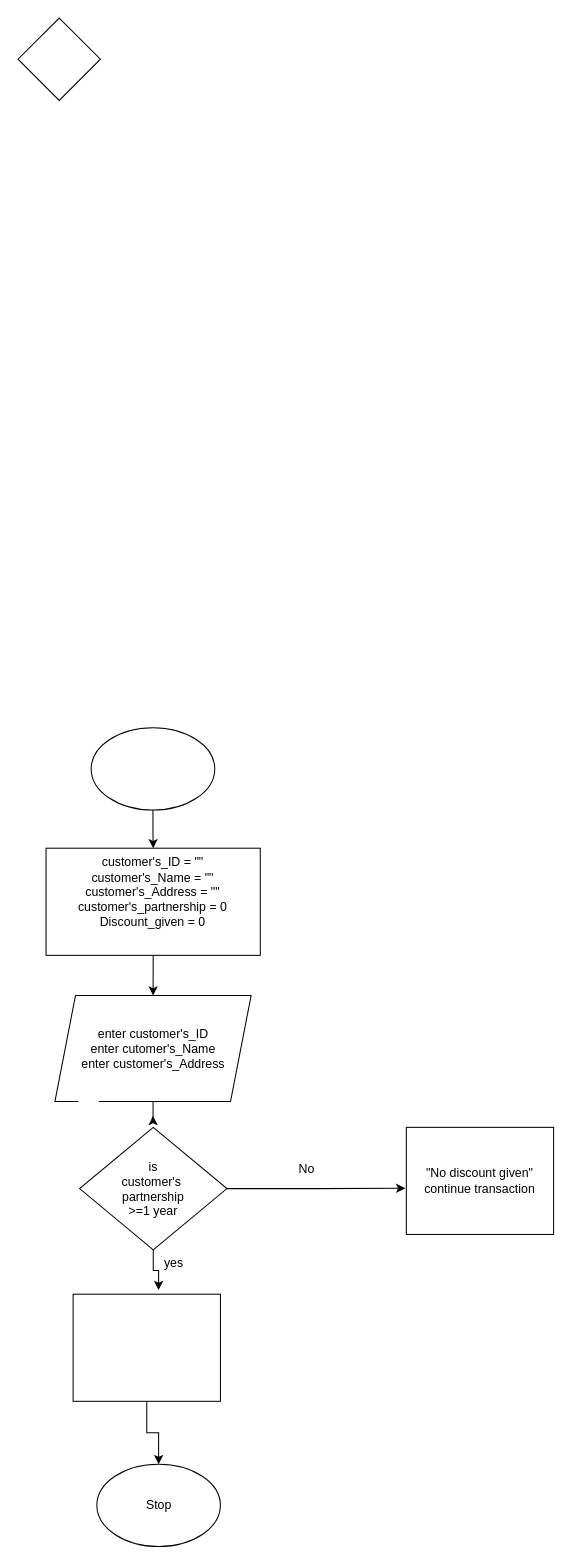
This 572x1565 diagram has some shape labels left out. The shapes that lost their labels are listed below. From the top down, each one's centre as x and y in pixels, then its label:
(x=152, y=768): Start
(x=146, y=1347): "discount given" 5/100*price
